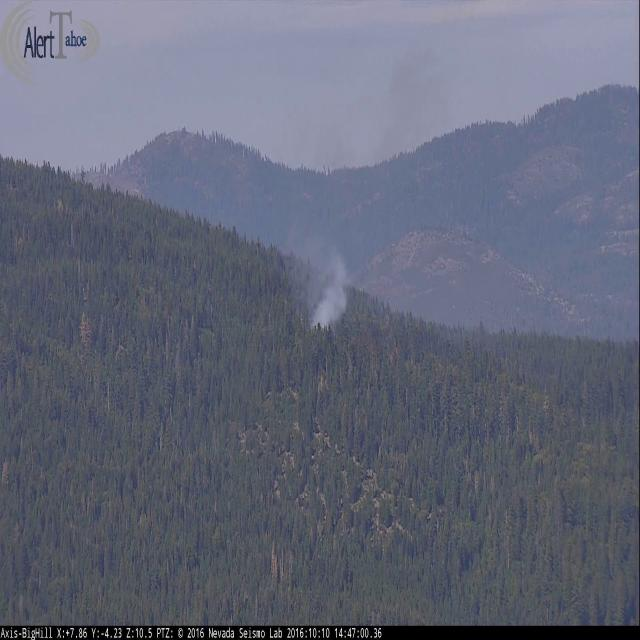smoke: (277, 196, 357, 337)
